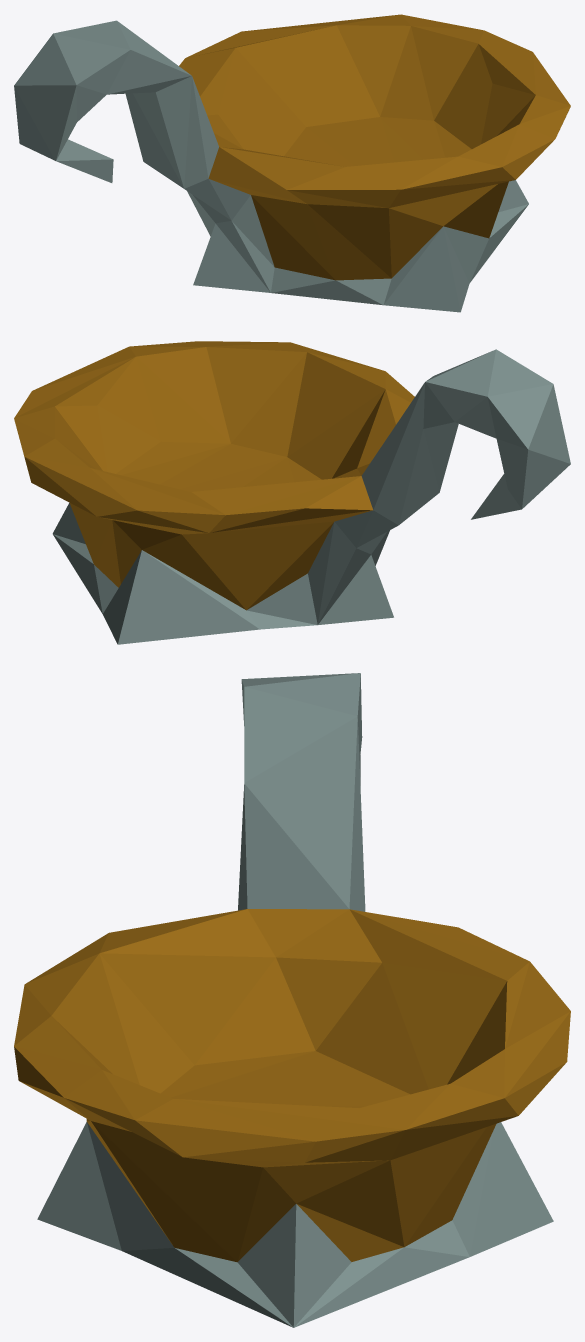
File: MDungeon_Candelabra_Cup_01.FBX
The picture shows the model from 3 angles, top to bottom: view 1: azimuth 30°, elevation 25°; view 2: azimuth 150°, elevation 25°; view 3: azimuth 270°, elevation 25°; orthographic projection. The views are drawn at different scales.
Parts seen in each view (by area): view 1: MDungeon_Candelabra_Cup_01_LOD0; view 2: MDungeon_Candelabra_Cup_01_LOD0; view 3: MDungeon_Candelabra_Cup_01_LOD0.
Boxes of the visible parts, left/top/right/bottom form: MDungeon_Candelabra_Cup_01_LOD0: left=14, top=14, right=570, bottom=312; MDungeon_Candelabra_Cup_01_LOD0: left=14, top=341, right=570, bottom=644; MDungeon_Candelabra_Cup_01_LOD0: left=14, top=673, right=570, bottom=1327.
Size of what is drawn, in the model's own units: 0.3081 by 0.1595 by 0.2176.
